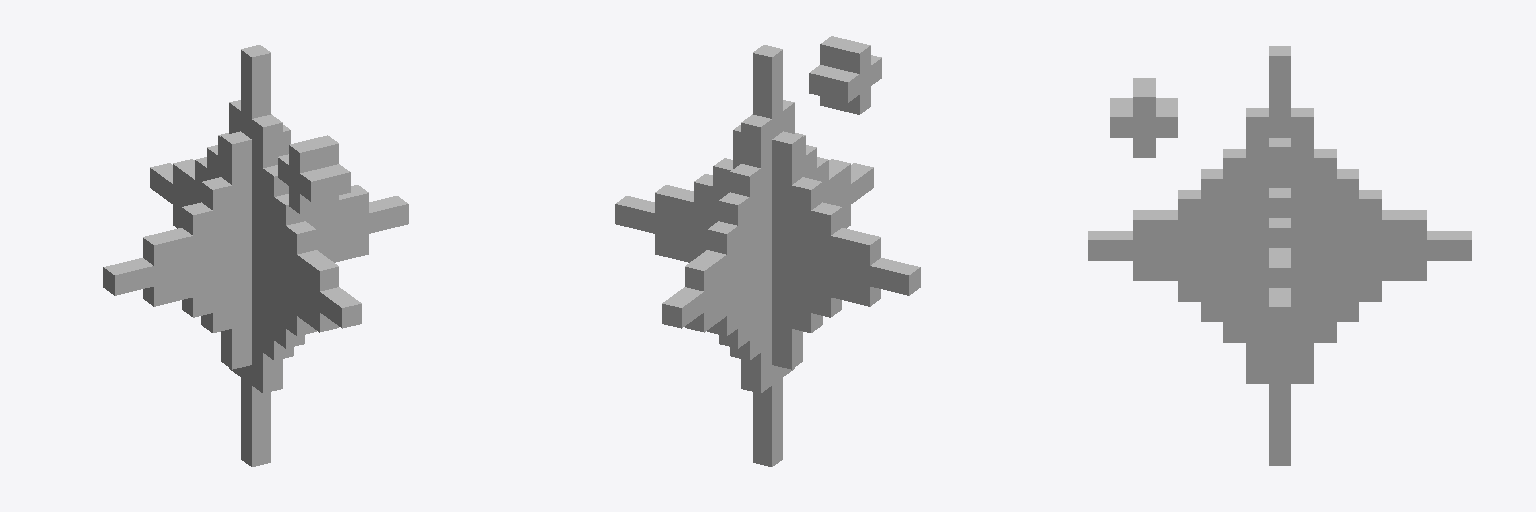
The model's file is EXP 2.obj.
3 renders of one model, left to right at view 1: azimuth 30°, elevation 25°; view 2: azimuth 150°, elevation 25°; view 3: azimuth 270°, elevation 25°, orthographic.
Parts seen in each view (by area): view 1: object 1; view 2: object 1; view 3: object 1.
Part boxes in pixels (left/top/right/bottom): object 1: left=103, top=45, right=408, bottom=466; object 1: left=615, top=36, right=920, bottom=466; object 1: left=1088, top=46, right=1471, bottom=465.
Size of the model in its own units: 1.5 by 2 by 1.7.